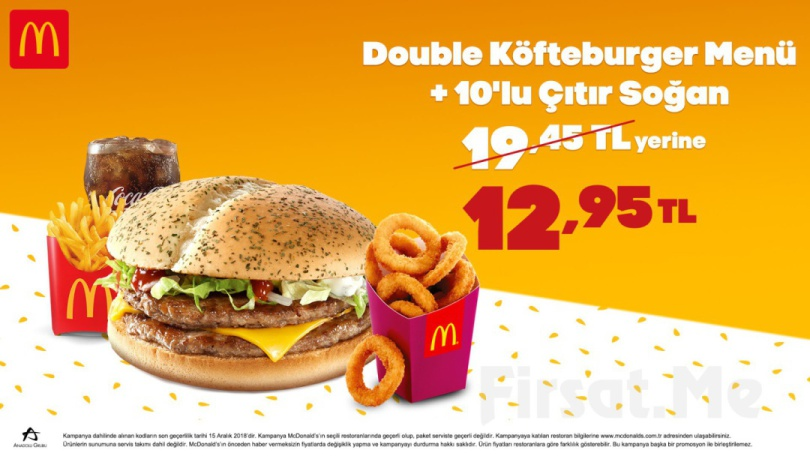mcdonalds: (62, 274, 115, 321), (430, 322, 463, 351)
